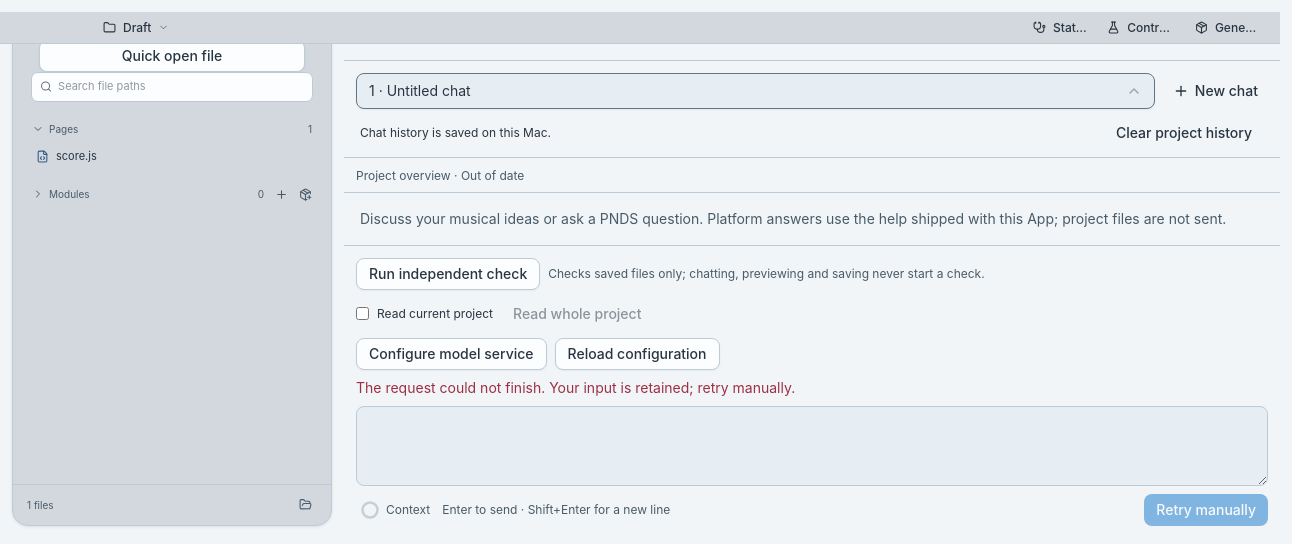
Scenario: creation discussion reading (#166) › offers a configuration reload and Settings route after an unknown configuration failure
Expected: the button "Configure model service" is shown, [356,338,546,370]
Expected: the button "Retry manually" is disabled, [1144,494,1268,526]
Click the button "Reload configuration". click: (637,354)
box: [554,338,720,370]
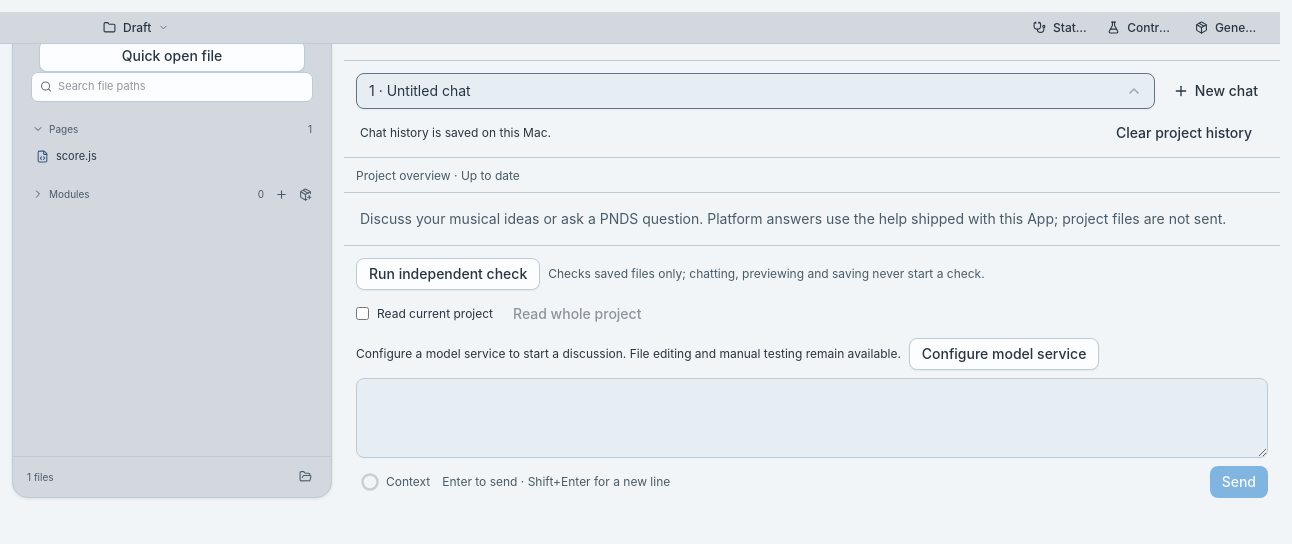
Now the text "Configure a model service to start a discussion. File editing and manual testing remain available." is shown, box [356,346,901,361]
